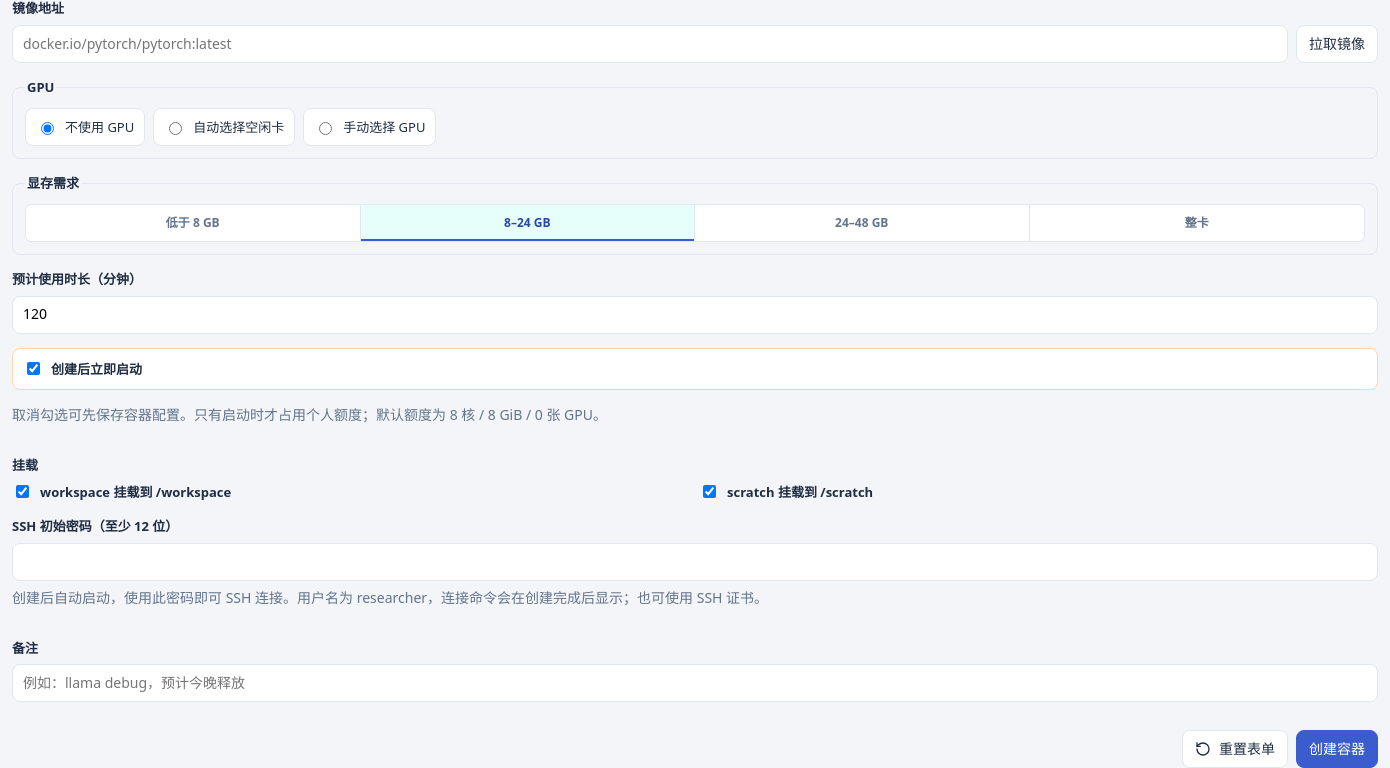
creation sends the password once, starts the container and shows its campus command
(page scrolled)
Type "my-initial-ssh-password" into the password field labelled "SSH 初始密码（至少 12 位）" at [695, 562], box 12,543 -> 1378,581
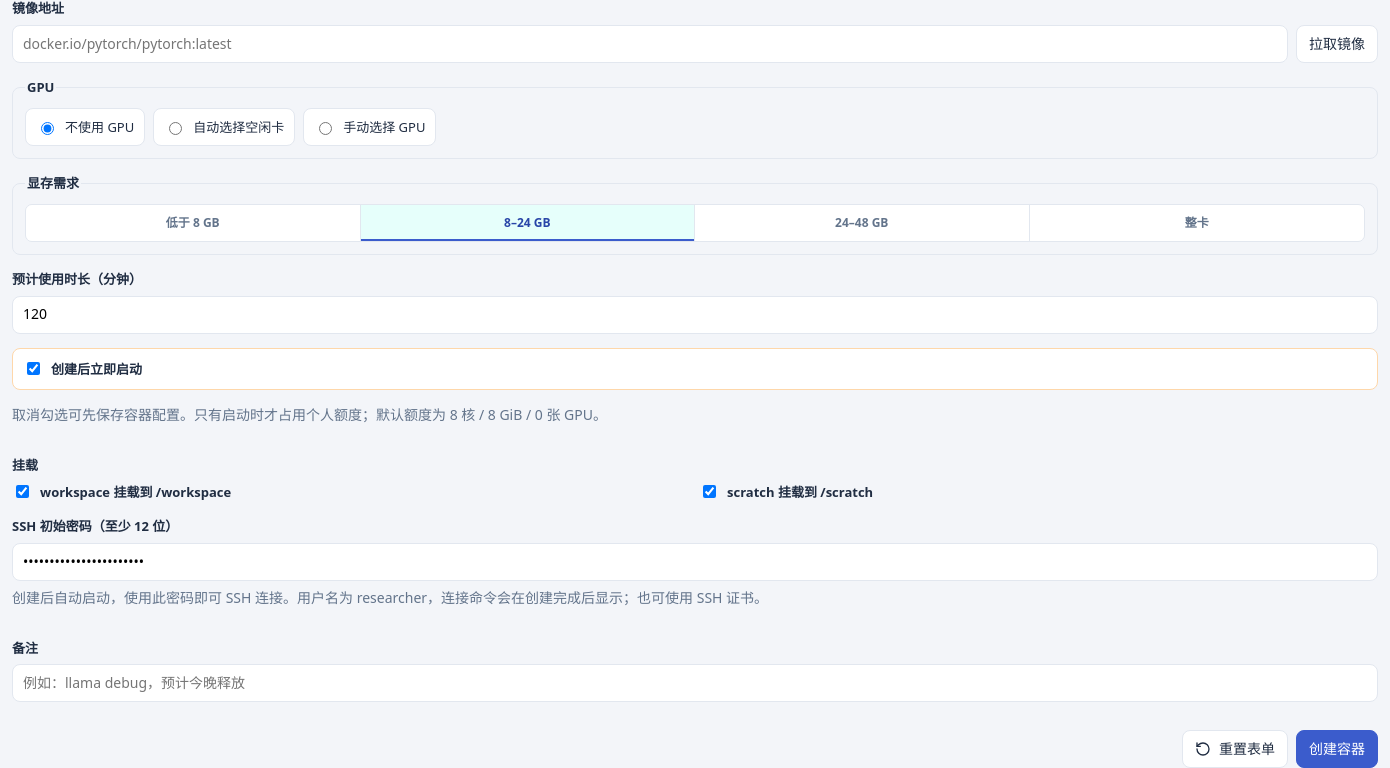
Click the button "创建容器" at [1337, 749], box 1296,730 -> 1378,767
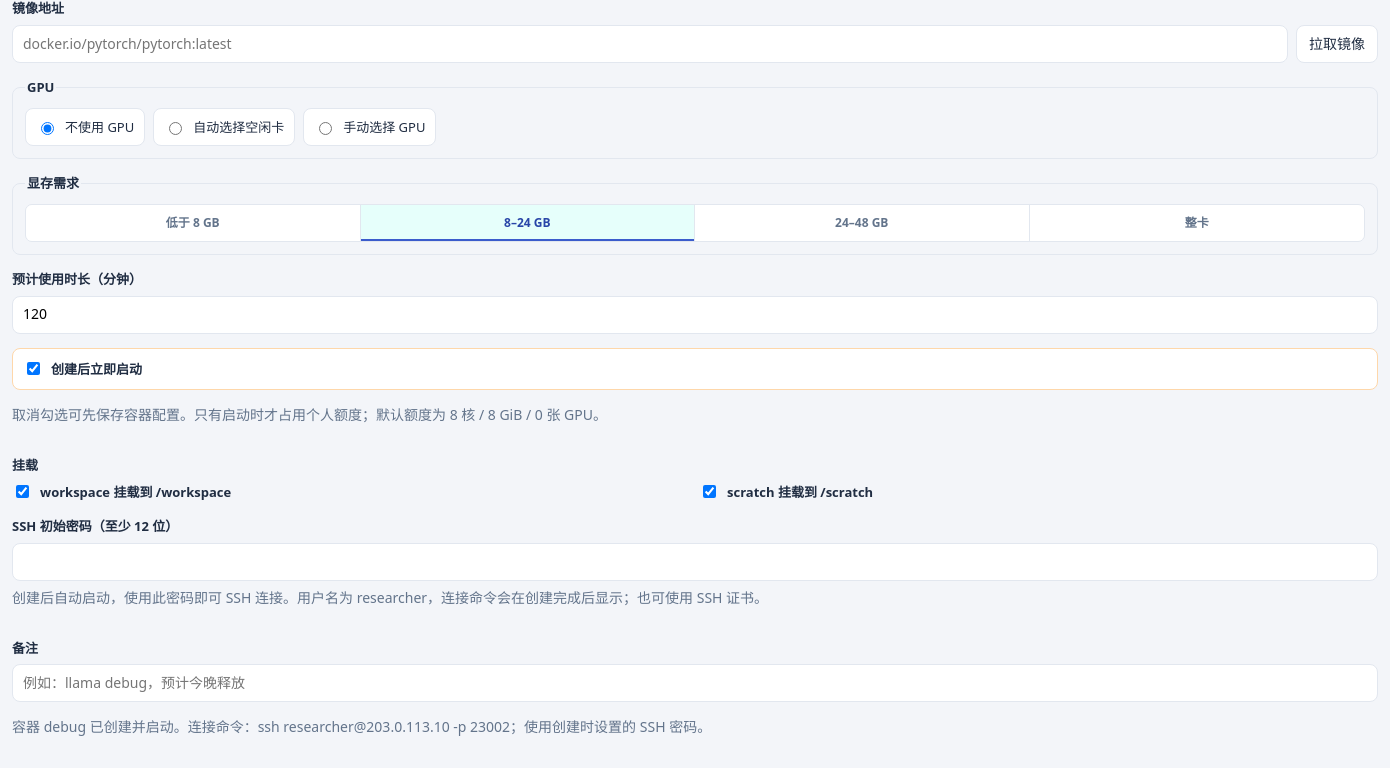
Check: the text "ssh researcher@203.0.113.10 -p 23002" is shown, box 12,717 -> 711,736
Check: the password field labelled "SSH 初始密码（至少 12 位）" is empty, box 12,543 -> 1378,581
